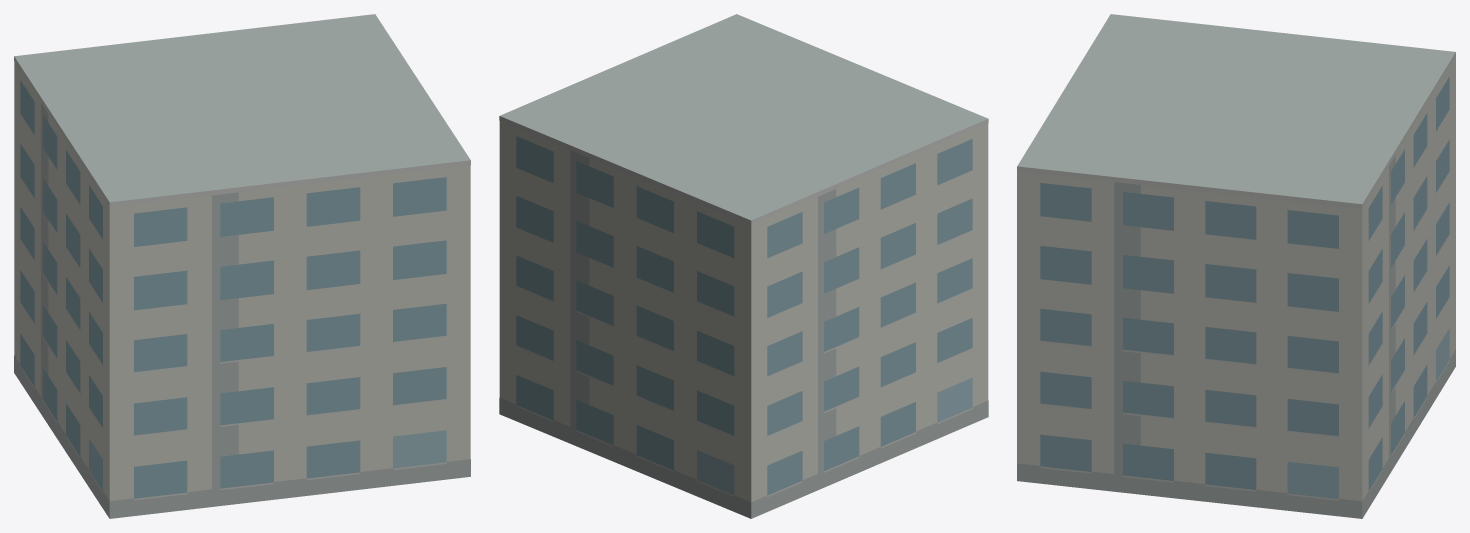
File: residential-9753b561-07f6-46b0-ba5b-7ed5c5a5752e.glb
3 views of the same model, side by side, from view 1: azimuth 30°, elevation 25°; view 2: azimuth 150°, elevation 25°; view 3: azimuth 270°, elevation 25° (orthographic). The views are drawn at different scales.
Parts seen in each view (by area): view 1: residential-9753b561-07f6-46b0-ba5b-7ed5c5a5752e.tmp; view 2: residential-9753b561-07f6-46b0-ba5b-7ed5c5a5752e.tmp; view 3: residential-9753b561-07f6-46b0-ba5b-7ed5c5a5752e.tmp.
Boxes of the visible parts, x1,y1,x2,y2 form: residential-9753b561-07f6-46b0-ba5b-7ed5c5a5752e.tmp: (14,14,470,518); residential-9753b561-07f6-46b0-ba5b-7ed5c5a5752e.tmp: (499,14,988,518); residential-9753b561-07f6-46b0-ba5b-7ed5c5a5752e.tmp: (1017,14,1455,518).
Size of the model in its own units: 19.78 by 15.25 by 19.28.
